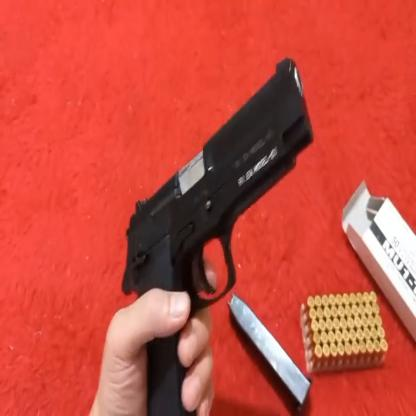handgun: (125, 46, 324, 415)
